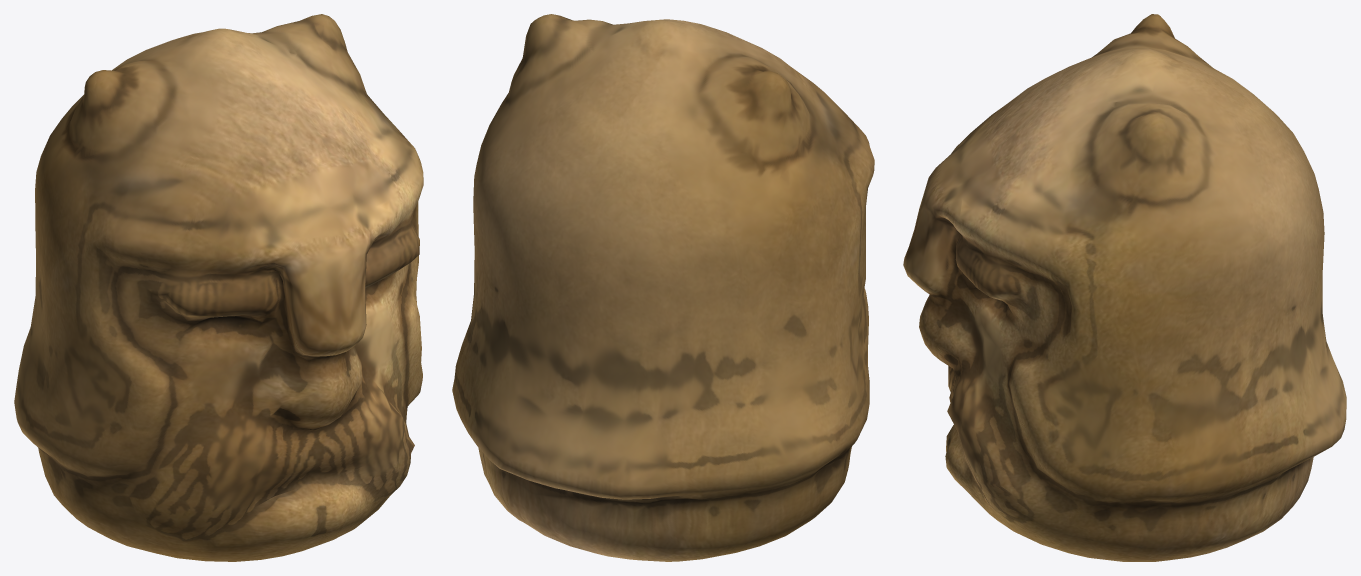
File: Viking.fbx
3 renders of one model, left to right at view 1: azimuth 30°, elevation 25°; view 2: azimuth 150°, elevation 25°; view 3: azimuth 270°, elevation 25°, orthographic. The views are drawn at different scales.
Visible parts, largest first — view 1: Viking; view 2: Viking; view 3: Viking.
Part boxes in pixels (<box>): Viking: <box>14,14,423,561</box>; Viking: <box>452,14,874,561</box>; Viking: <box>903,14,1346,561</box>.
Bounding box in the file's own units: 4.74 × 6.04 × 5.22.
Materials: 1 (1 with a texture image).
